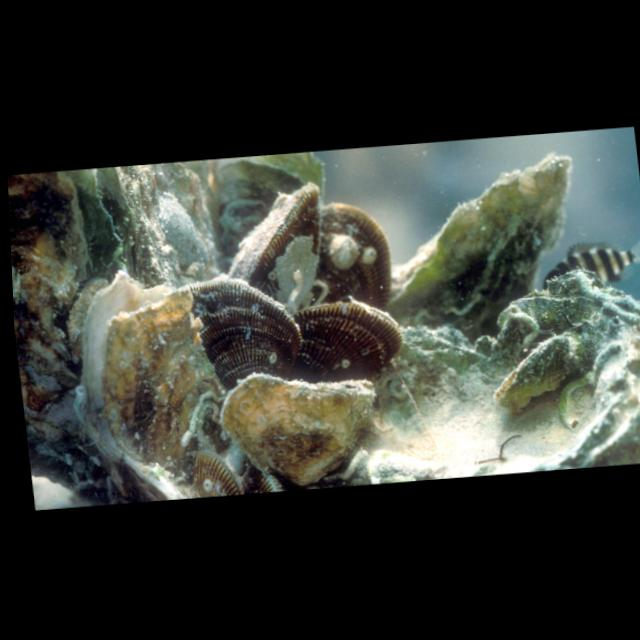Oyster-Closed: (216, 361, 389, 491), (218, 180, 335, 317), (176, 273, 306, 392), (289, 296, 409, 387), (486, 331, 590, 410)
Oyster-Indeterminate: (379, 151, 589, 330), (205, 150, 337, 272), (297, 198, 396, 321)
Oyster-Open: (64, 262, 246, 500)
